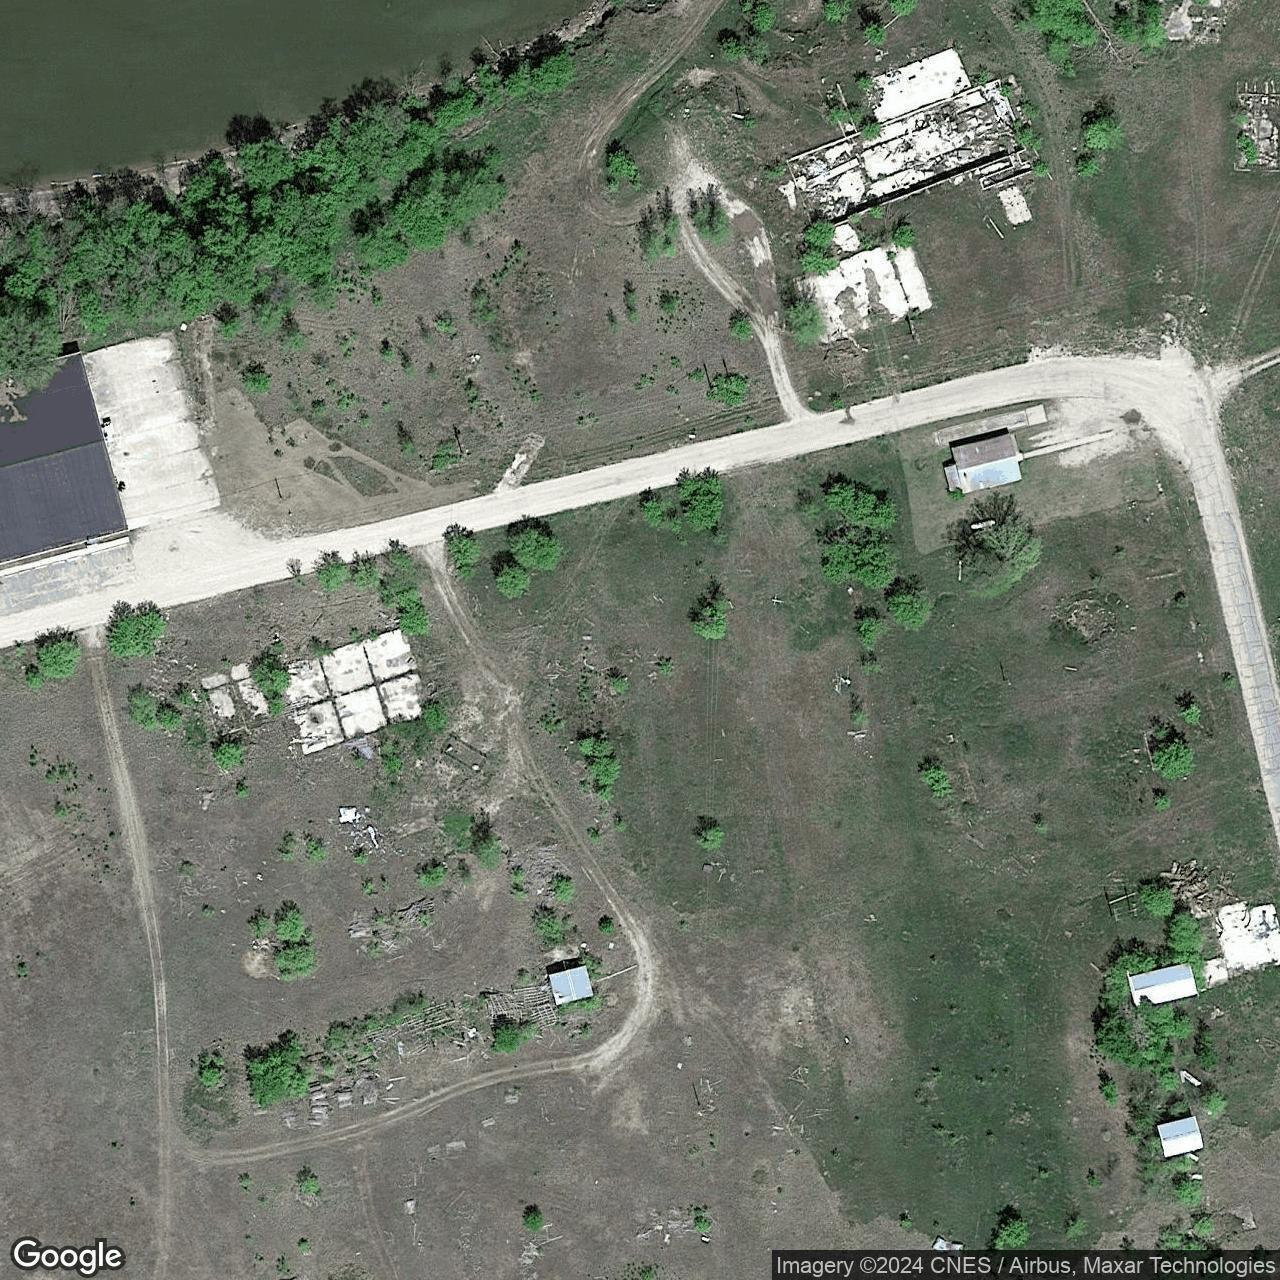Garage: (1125, 961, 1201, 1012), (1155, 1114, 1205, 1160), (547, 964, 595, 1008)
House: (941, 433, 1023, 496)
Other: (2, 349, 131, 565)
Propane: (969, 517, 996, 531)
